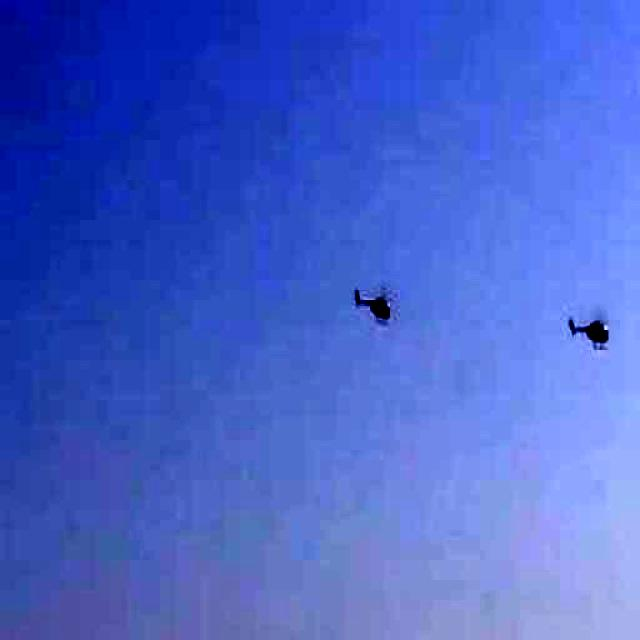drone: (339, 269, 405, 335), (554, 305, 630, 352)
